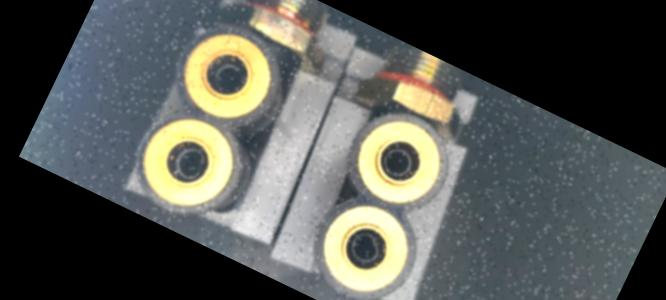off-centered: (340, 223, 389, 273), (166, 138, 213, 186)
